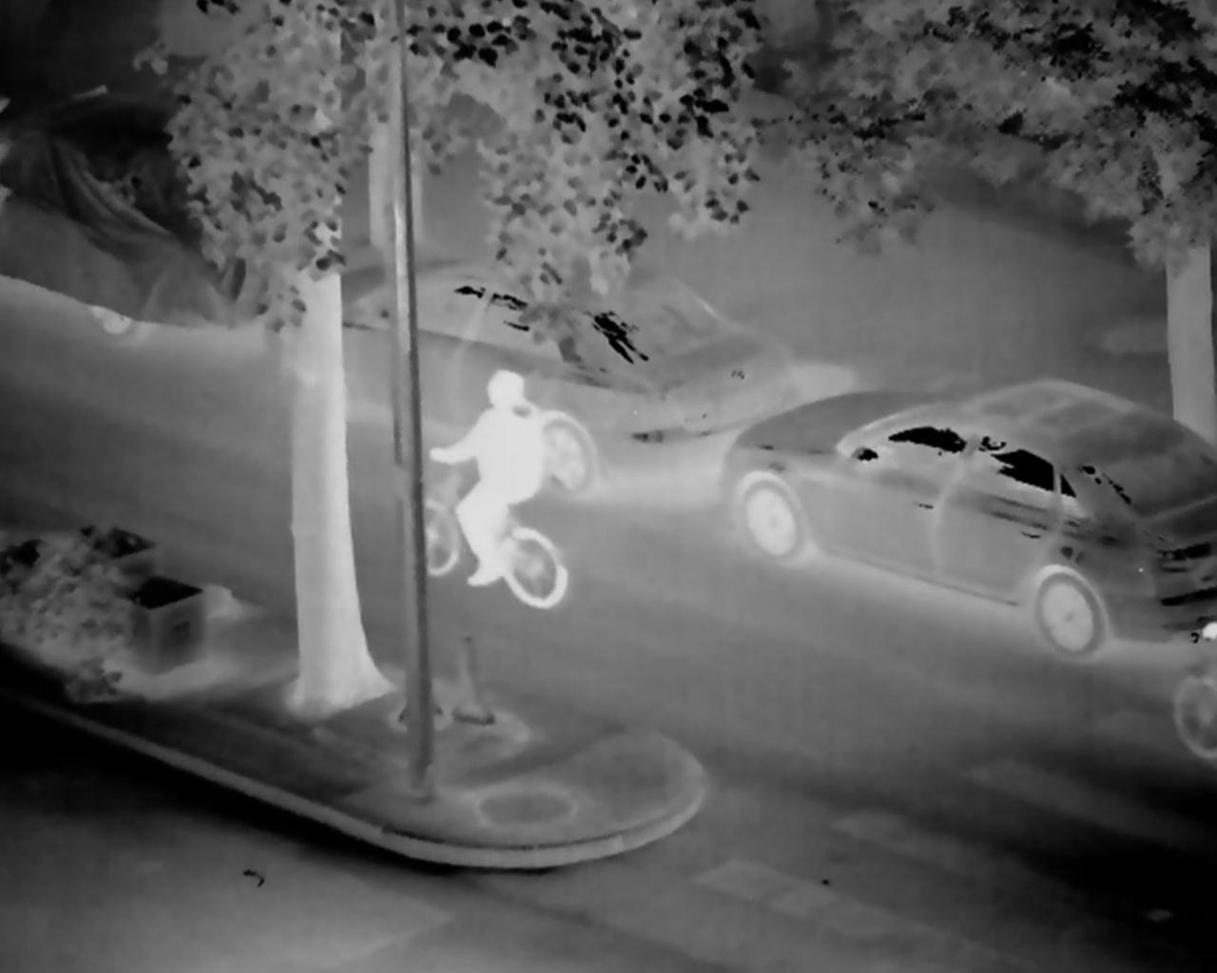person: (421, 365, 545, 594)
